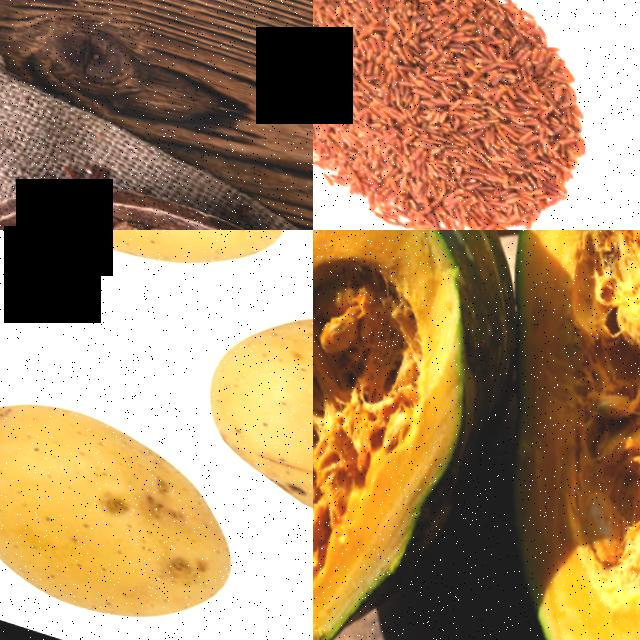potato: (0, 368, 255, 640), (166, 258, 313, 554), (0, 230, 312, 297)
pumpkin: (313, 230, 570, 640), (313, 230, 569, 640), (398, 230, 640, 640)
red rice: (313, 0, 621, 230), (0, 160, 313, 230)
